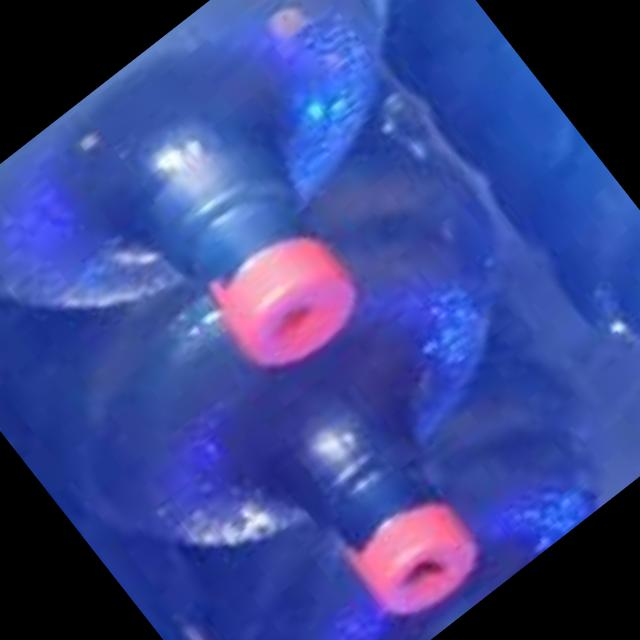TutupGalon: (188, 202, 376, 389), (326, 462, 499, 634)
